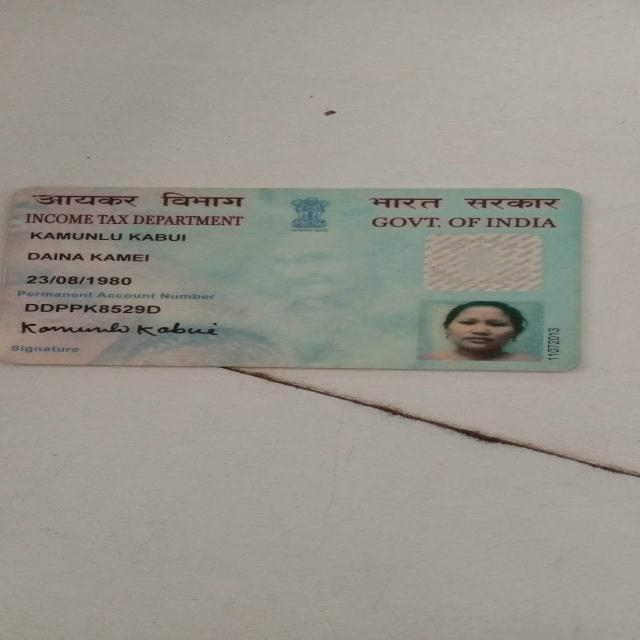pan_card: (0, 189, 579, 372)
